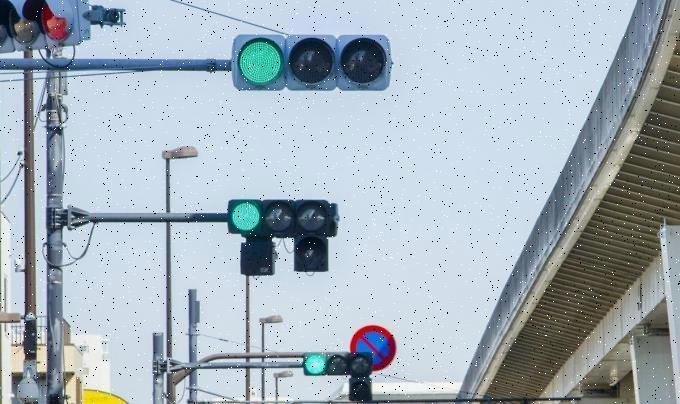cars: (231, 33, 389, 89), (227, 202, 334, 235), (302, 352, 374, 377)
